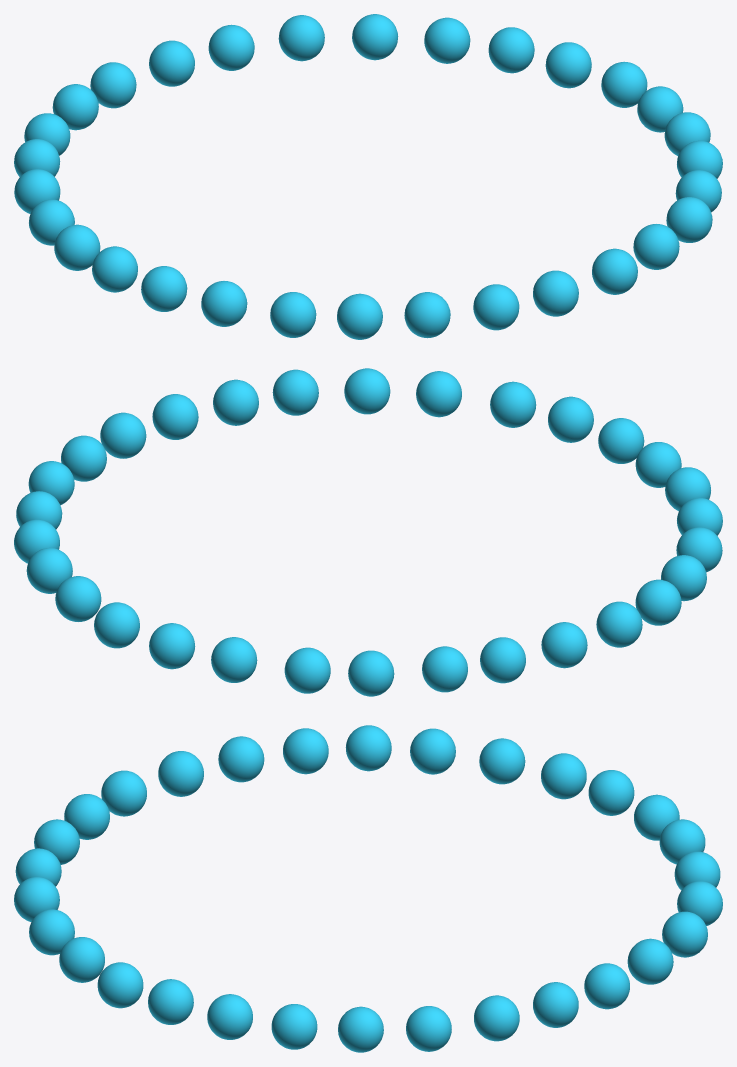
3 renders of one model, top to bottom at view 1: azimuth 30°, elevation 25°; view 2: azimuth 150°, elevation 25°; view 3: azimuth 270°, elevation 25°, orthographic.
Parts seen in each view (by area): view 1: Sphere048; view 2: Sphere048; view 3: Sphere048.
Part boxes in pixels (<box>): Sphere048: <box>14,14,722,339</box>; Sphere048: <box>14,368,722,696</box>; Sphere048: <box>14,725,722,1052</box>.
Size of the model in its own units: 127 by 8.22 by 127.
